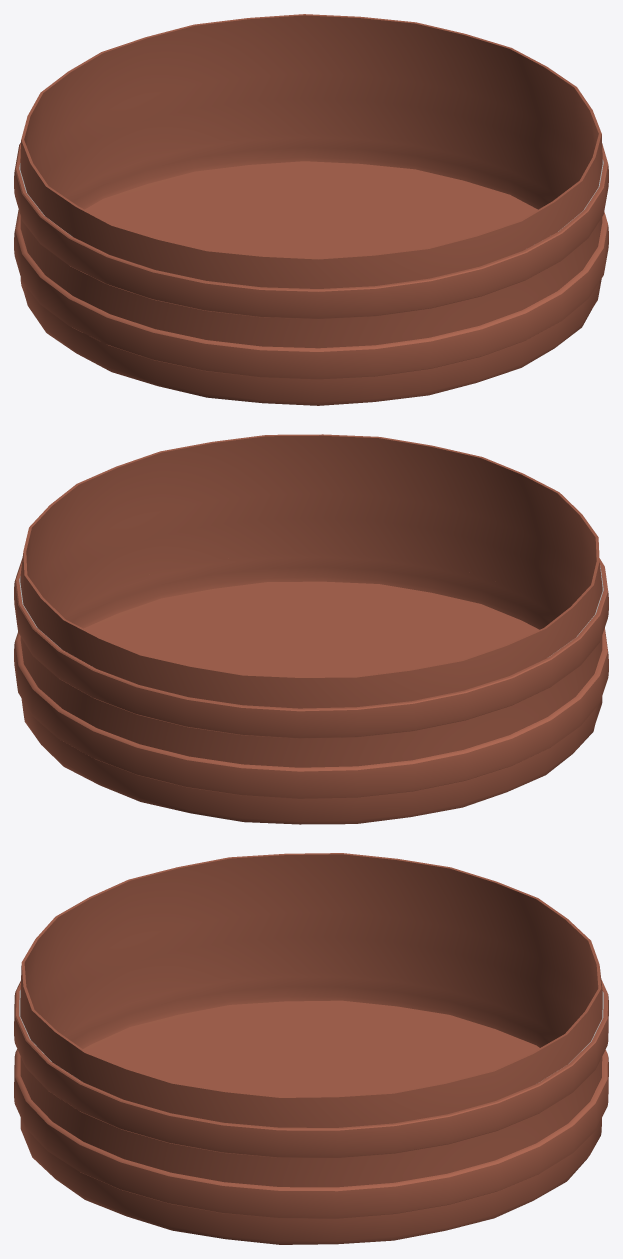
File: pirinckabi.fbx
The picture shows the model from 3 angles, top to bottom: view 1: azimuth 30°, elevation 25°; view 2: azimuth 150°, elevation 25°; view 3: azimuth 270°, elevation 25°; orthographic projection.
Visible parts, largest first — view 1: pirinckabi; view 2: pirinckabi; view 3: pirinckabi.
Part boxes in pixels (x1,y1,x2,y2): pirinckabi: (14,14,608,405); pirinckabi: (14,434,608,824); pirinckabi: (14,853,608,1244).
Bounding box in the file's own units: 283 × 77.61 × 283.
